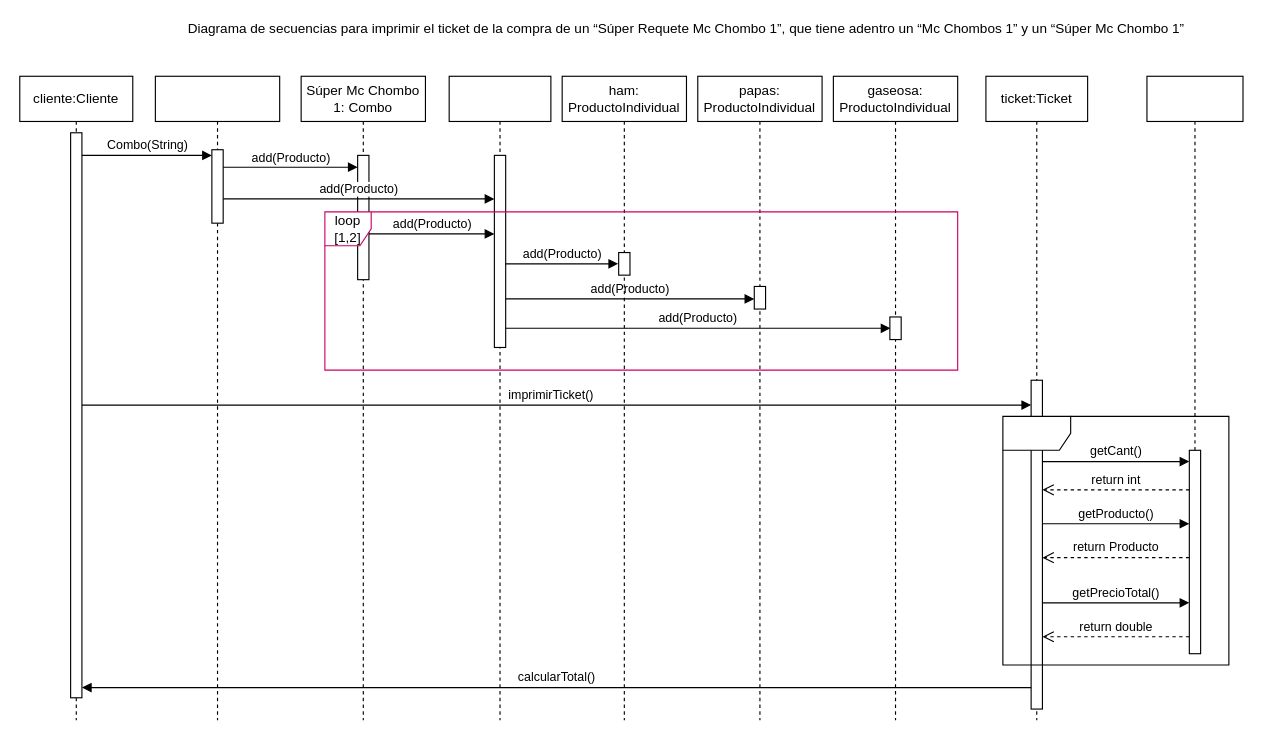
The diagram is 1263 pixels wide and 740 high, and some of its shapes have lost their labels. Here are the shapes that lost their labels. From the top down, the box of each, then its label:
(1146, 75, 1243, 653): item:Item
(154, 75, 280, 720): Súper Requete Mc Chombo 1: Combo
(448, 75, 551, 720): Mc Chombo 1: Combo
(1002, 415, 1229, 665): loop for each
